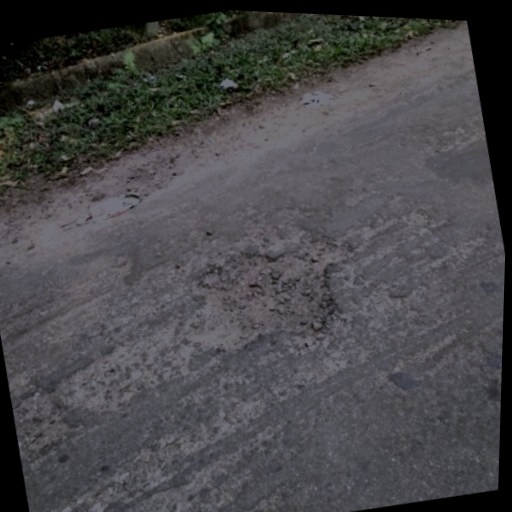pothole: (175, 223, 371, 366)
